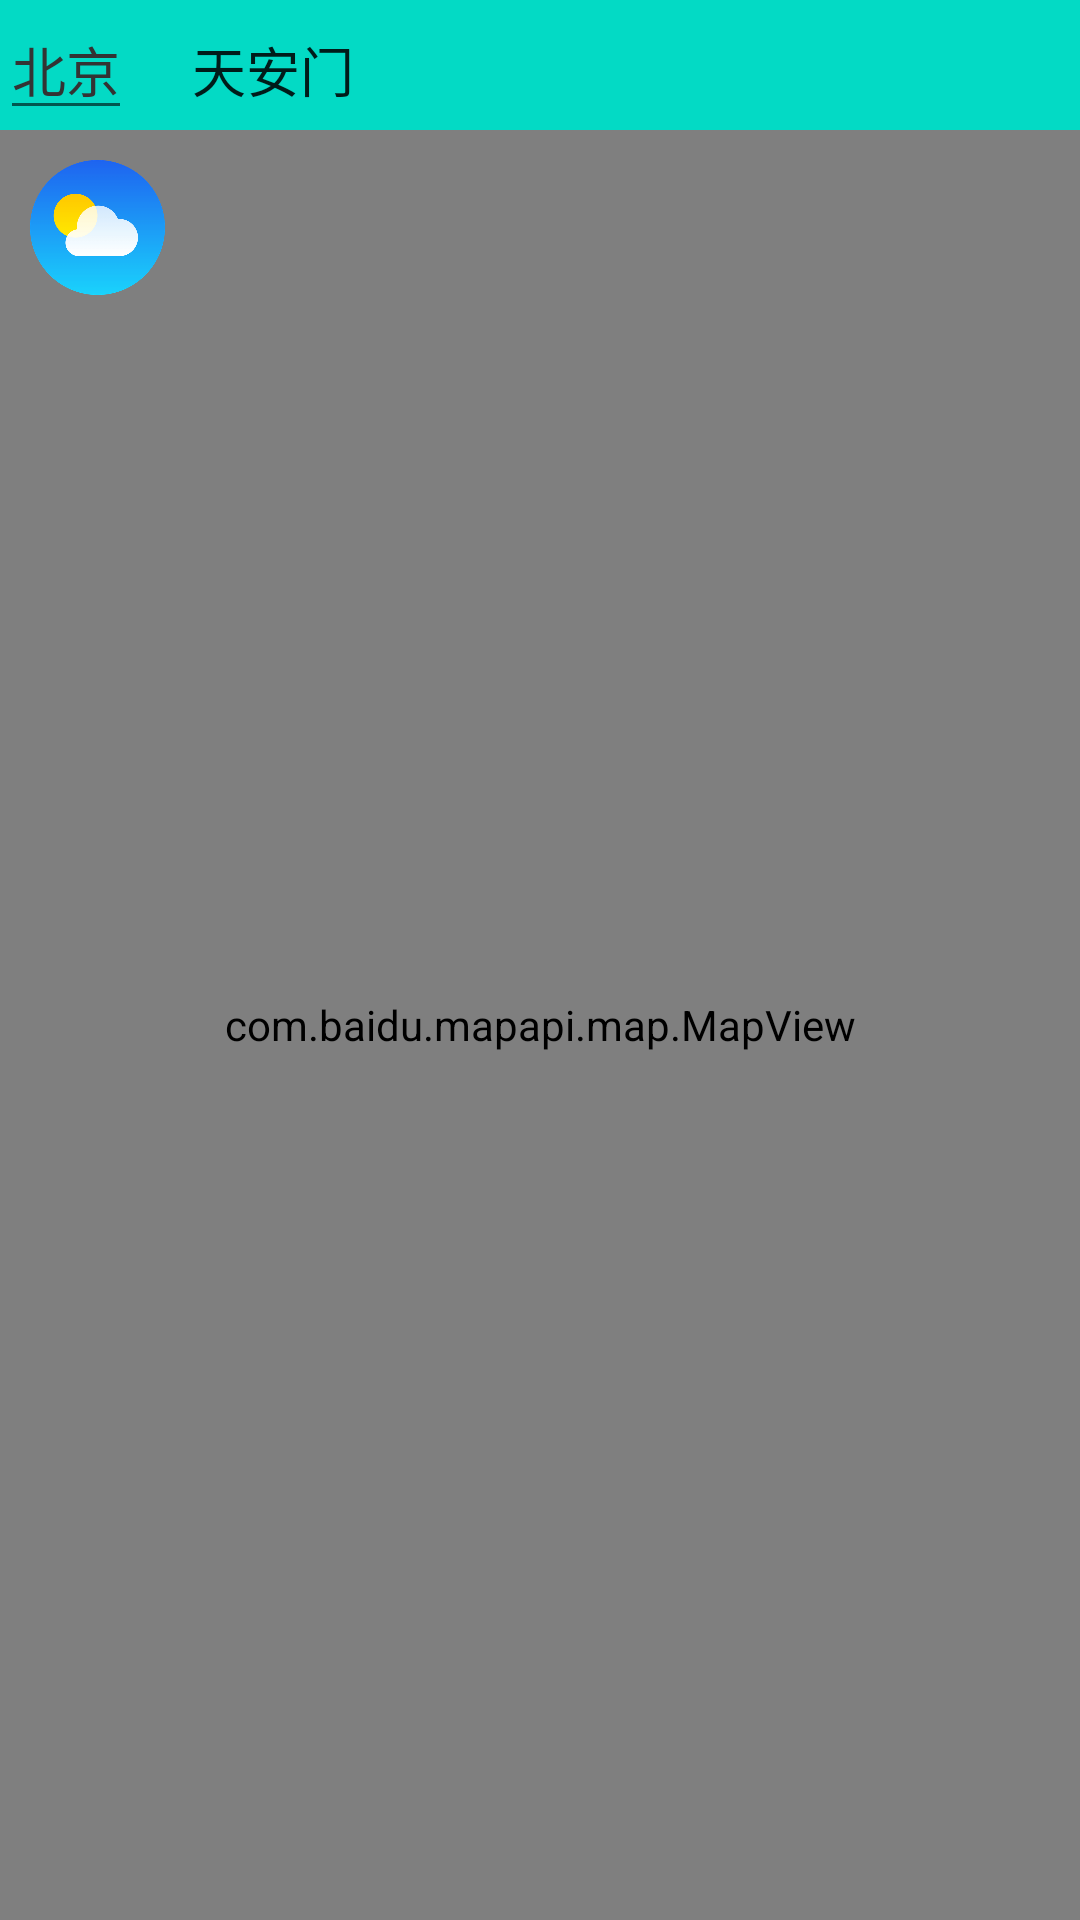

Screen size 1080px x 1920px. Icon name, then its box in pixels as (x1, y1, x2, y2):
weather: (30, 160, 165, 295)
